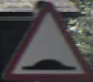Speed Breaker ahead: (9, 11, 79, 72)
